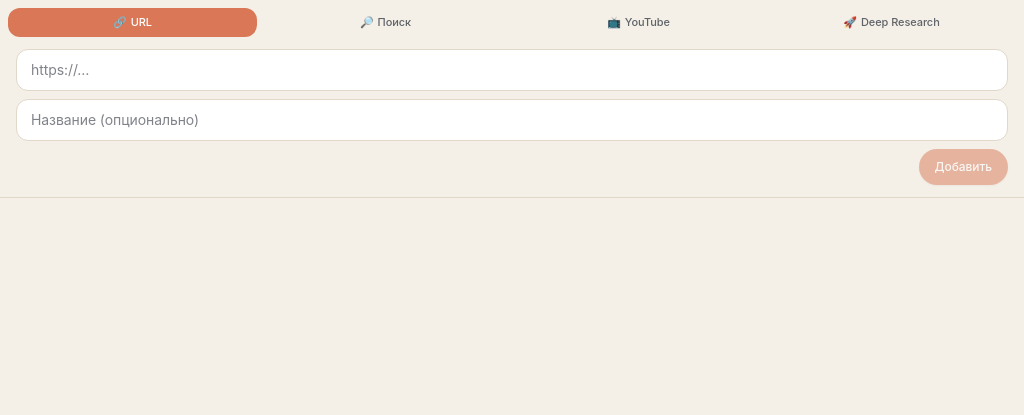
Test case: SourcesCockpit › Search tab: cap 6 topics — the add-topic button disables on the 7th
This screenshot has width=1024, height=415.
Click the tab with test id "sources-cockpit-tab-search".
click(386, 22)  # box [261, 8, 510, 36]
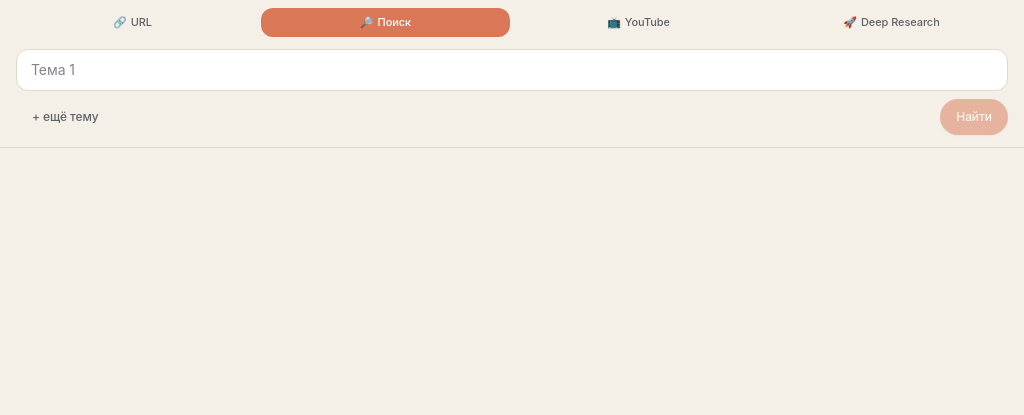
Click the button with test id "cockpit-search-add-topic".
click(65, 116)  # box [16, 98, 114, 134]
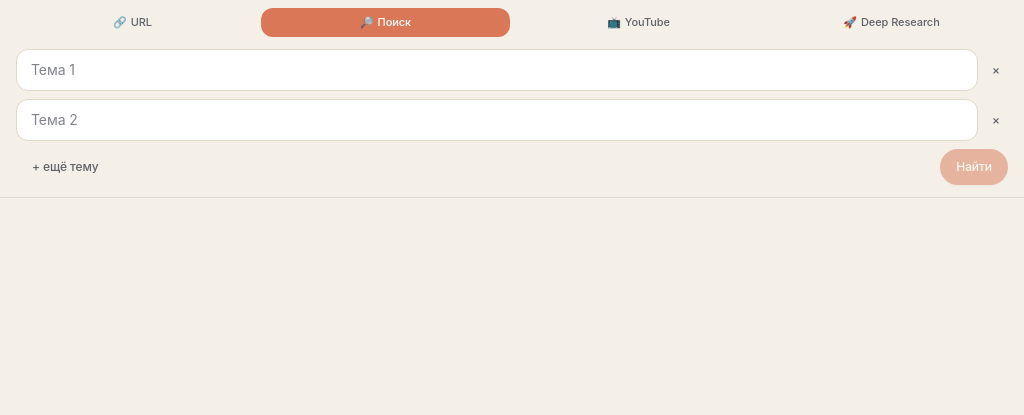
Click the button with test id "cockpit-search-add-topic".
click(65, 166)  # box [16, 148, 114, 184]
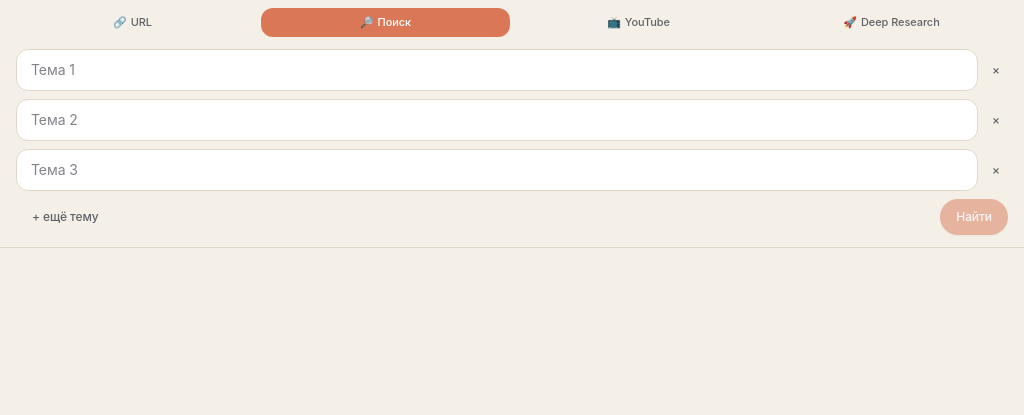
Click the button with test id "cockpit-search-add-topic".
click(65, 216)  # box [16, 198, 114, 234]
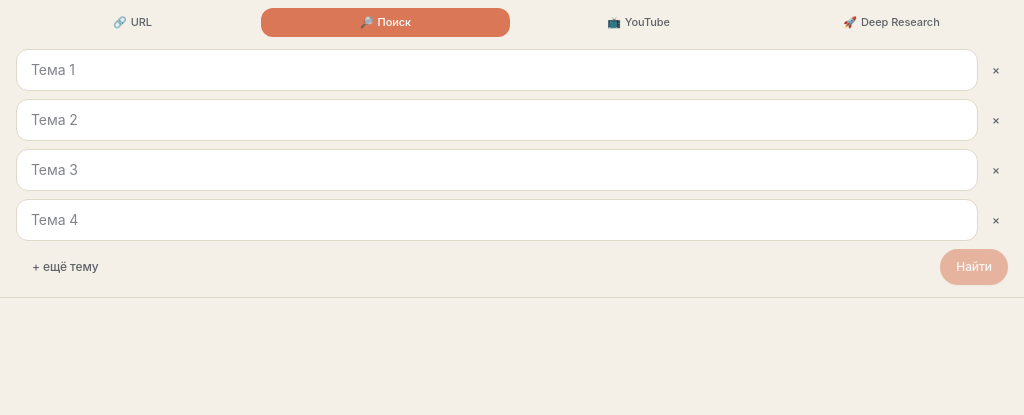
Click the button with test id "cockpit-search-add-topic".
click(65, 266)  # box [16, 248, 114, 284]
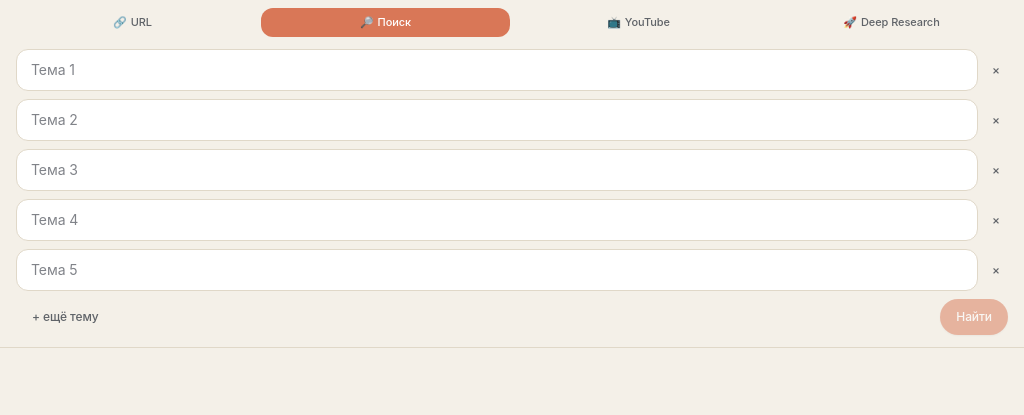
Click the button with test id "cockpit-search-add-topic".
click(65, 316)  # box [16, 298, 114, 334]
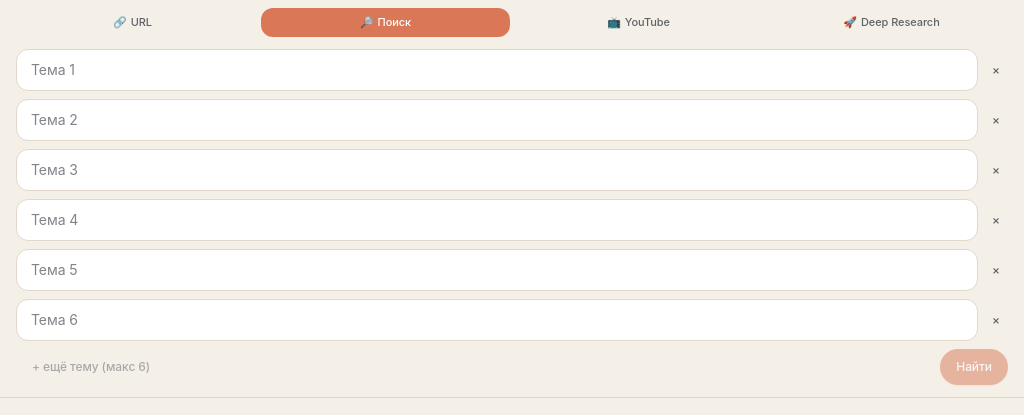
Result: the button with test id "cockpit-search-add-topic" is disabled at [16, 348, 166, 384]
